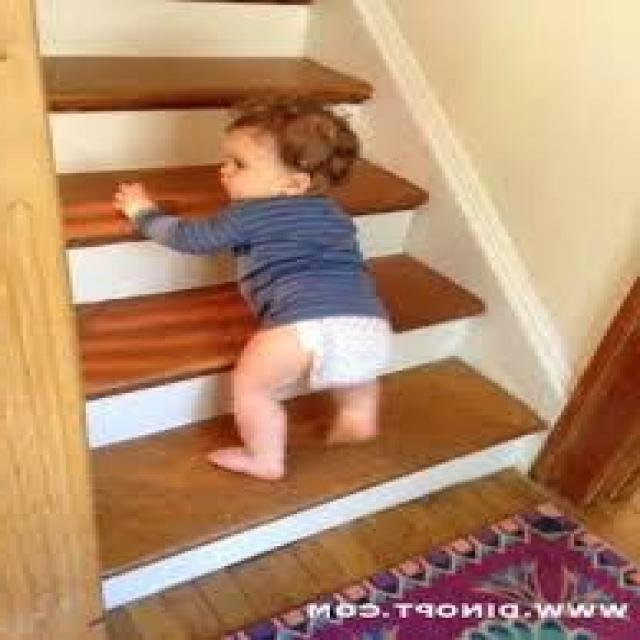child: (95, 99, 412, 485)
